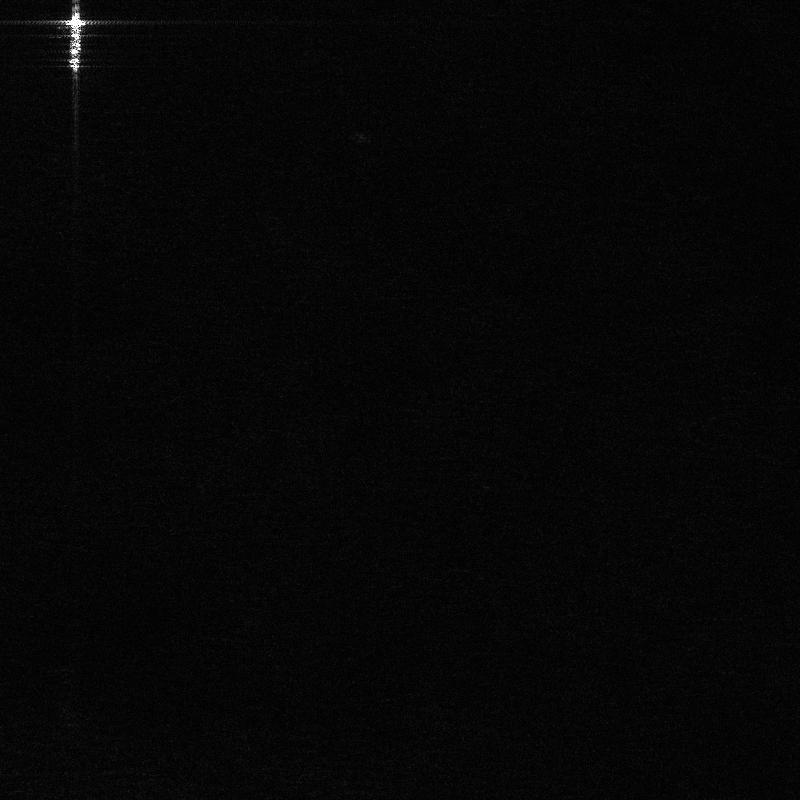ship: (66, 13, 86, 72)
